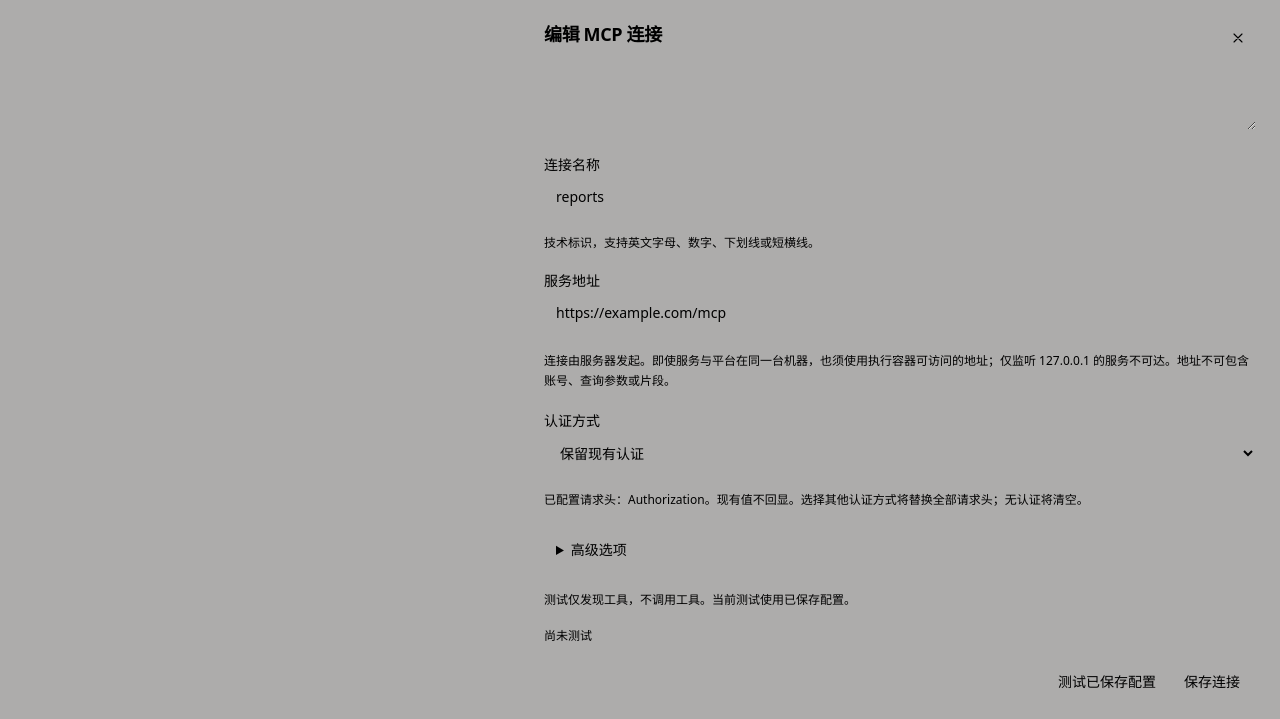
Test: preserves existing headers by default and never displays raw errors
(page scrolled)
Expected: the field showing "reports" is shown, [544, 179, 1256, 215]
Click the button "保存连接": (1212,682) [1168, 664, 1256, 700]
(page scrolled)
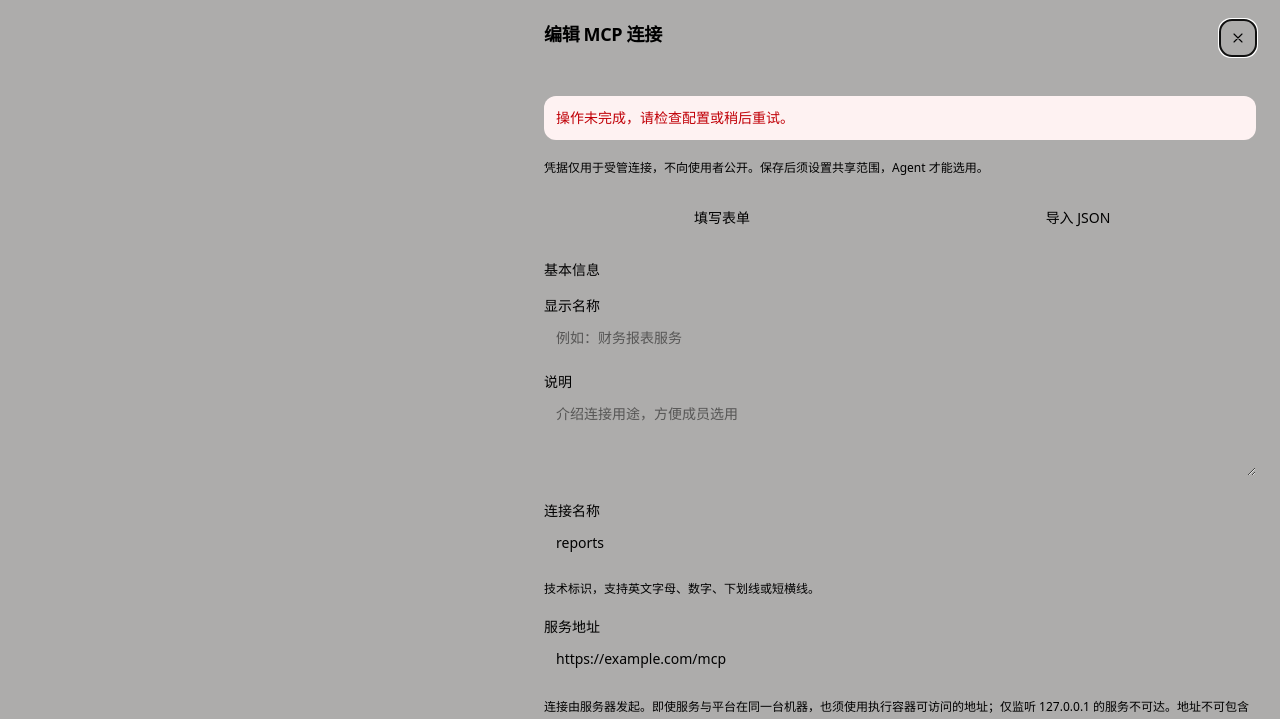
Now the message "操作未完成，请检查配置或稍后重试。" is shown, box [544, 96, 1256, 140]
